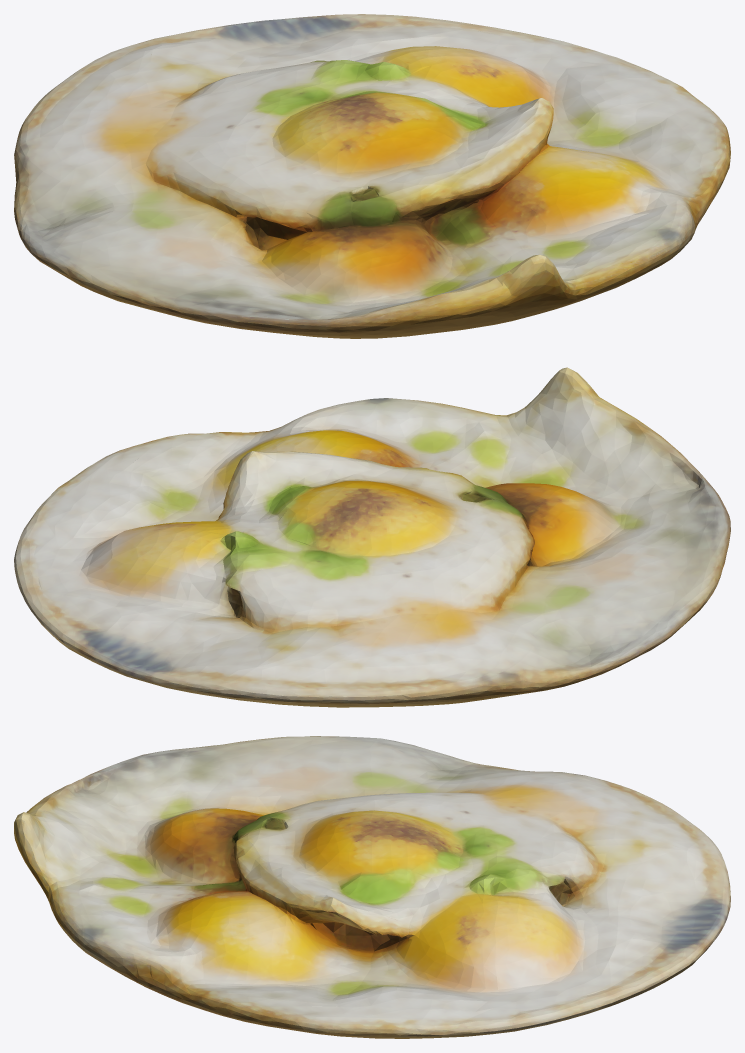
File: trung_op_la.glb
The picture shows the model from 3 angles, top to bottom: view 1: azimuth 30°, elevation 25°; view 2: azimuth 150°, elevation 25°; view 3: azimuth 270°, elevation 25°; orthographic projection. The views are drawn at different scales.
Visible parts, largest first — view 1: world; view 2: world; view 3: world.
Part boxes in pixels (x1,y1,x2,y2): world: (14, 14, 730, 338); world: (14, 367, 730, 707); world: (14, 736, 730, 1038).
Bounding box in the file's own units: 0.9688 × 0.2048 × 0.9979.
Materials: 1 (1 with a texture image).
